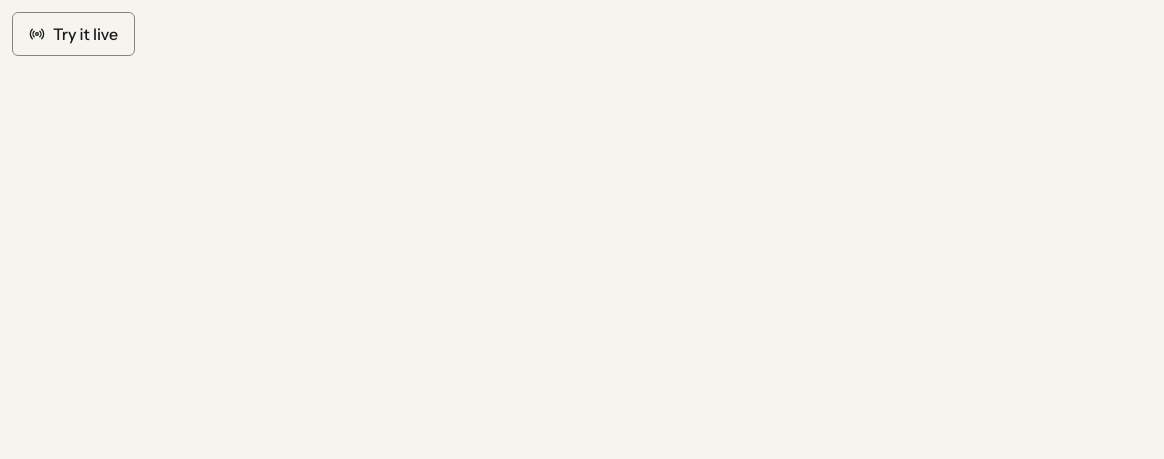
Test: TryLive data notice › asks for the notice to be acknowledged before the first run, then runs
The width and height of the screenshot is (1164, 459).
Click the button "Try it live": {"x": 74, "y": 34} [12,12,135,56]
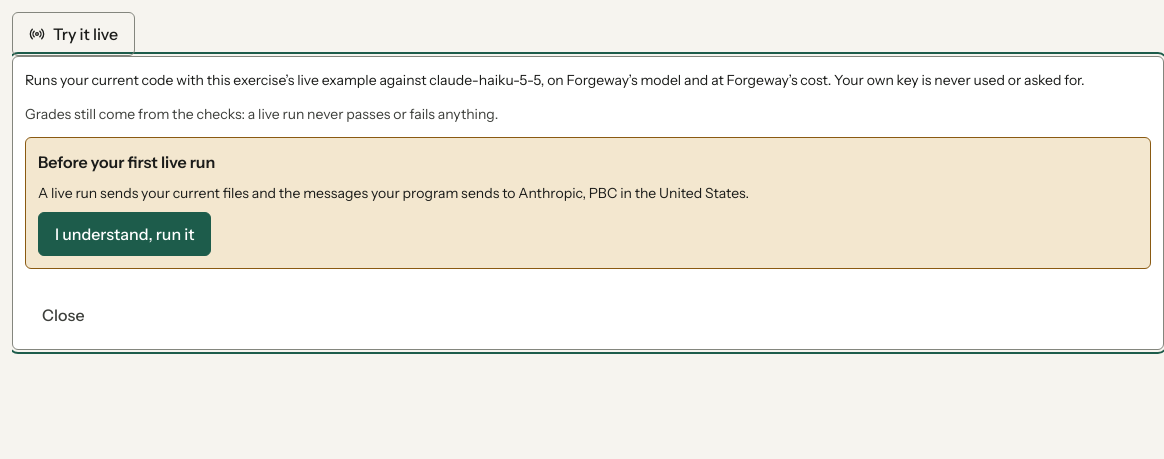
Check: the heading "Before your first live run" is shown, box [38,152,215,172]
Check: the text "A live run sends your current files and the messages your program sends to Anthropic, PBC in the United States." is shown, box [38,184,749,202]
Click the button "I understand, run it": {"x": 125, "y": 234} [38,212,212,256]
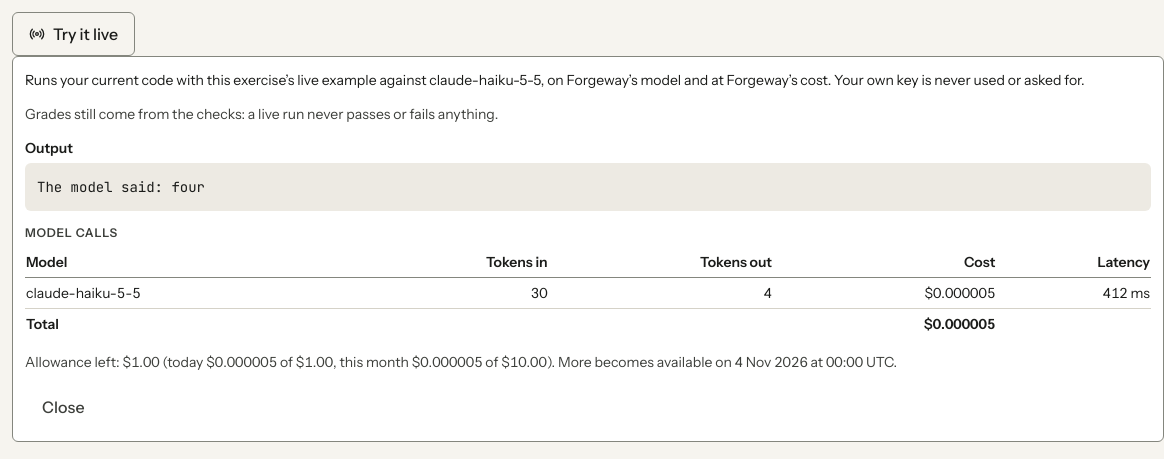
Check: the text "The model said: four" is shown, box [25,163,1151,211]
